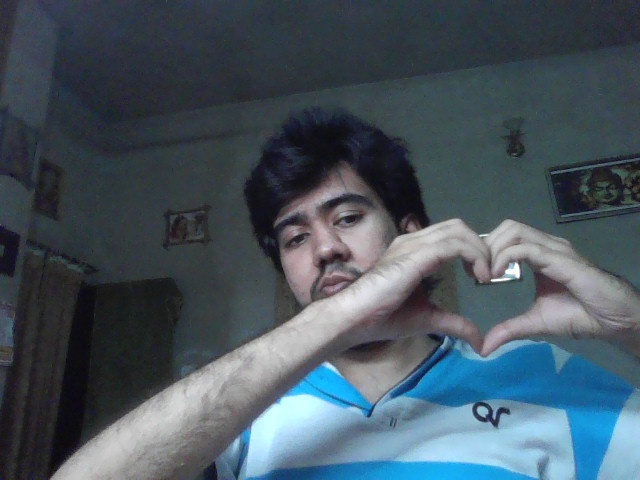Love: (363, 218, 625, 359)
